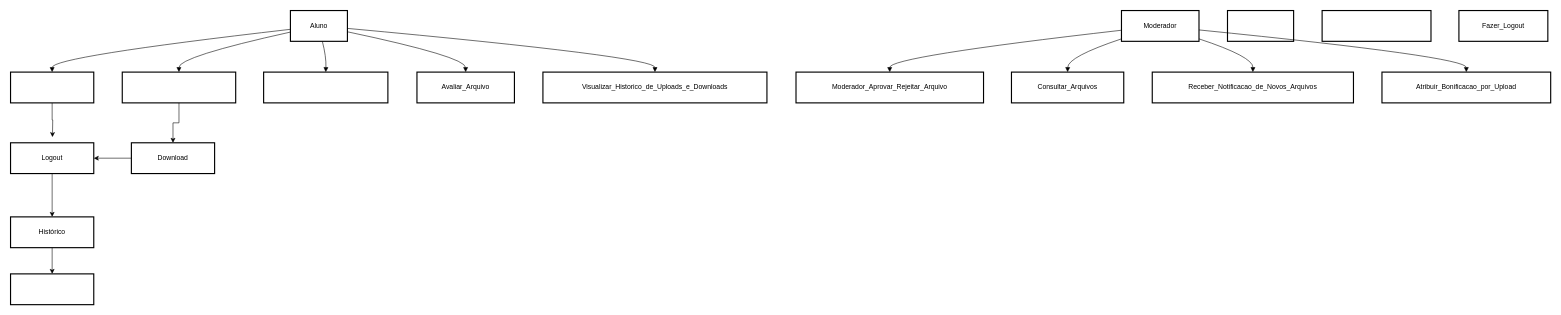
Image size: 1561x315. Some labels were removed from this diagram. The box of each missing label's shape, as (x1, y1, x2, y2) in pixels:
Cadastrar_Usuario: (1321, 10, 1431, 42)
Consulta: (10, 273, 94, 305)
Download_de_Arquivo: (263, 71, 388, 103)
Fazer_Login: (10, 71, 94, 103)
Sistema: (1227, 10, 1294, 42)
Upload_de_Arquivo: (121, 71, 236, 103)
